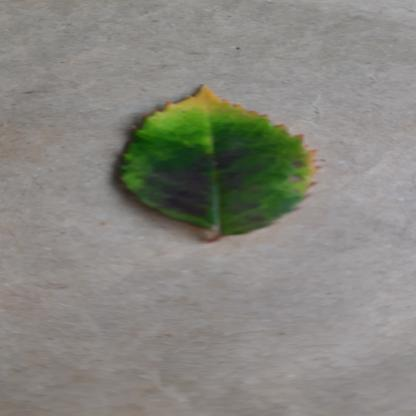downy-mildew: (99, 86, 322, 236)
